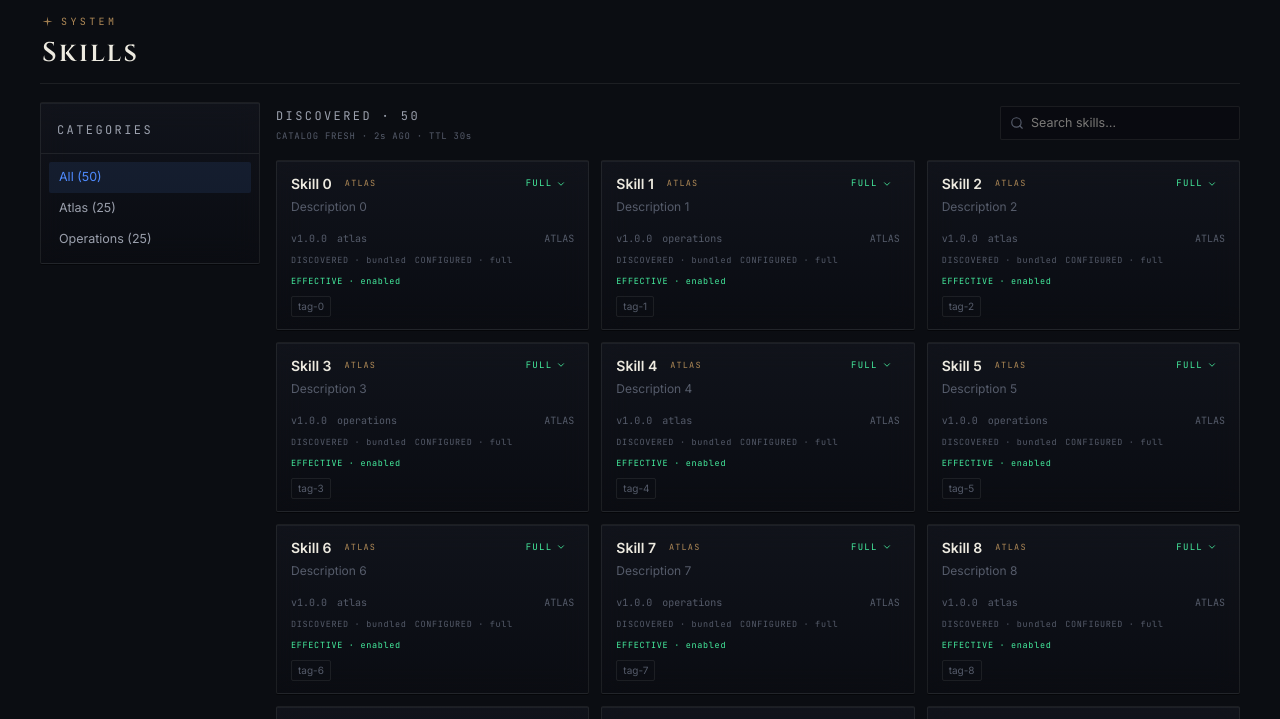
Skills control plane › never renders a success receipt when the mutation fails
expect the text "Skill 0" is shown: met, box [291,173,332,194]
Click the button titled "Loading tier: FULL" in the row of "Skill 0" at (546, 184), box [518,173,574,194]
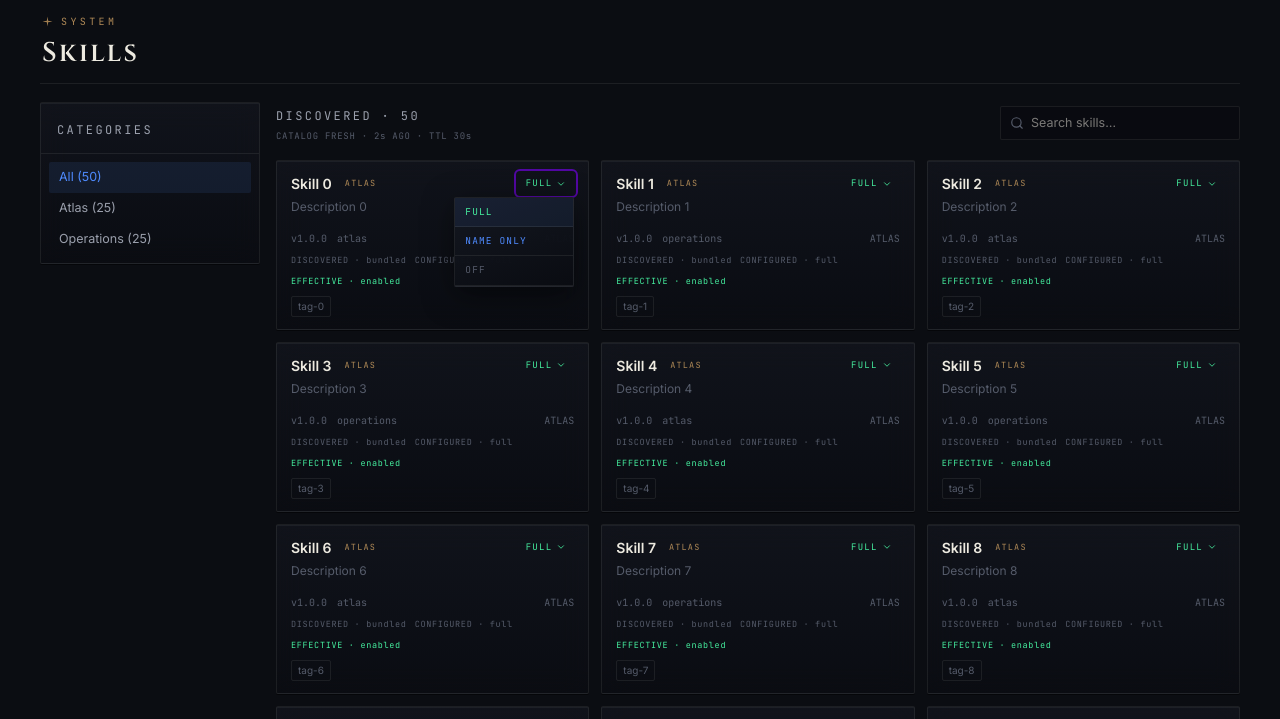
Click the button "NAME ONLY" at (514, 242), box [455,227,573,256]
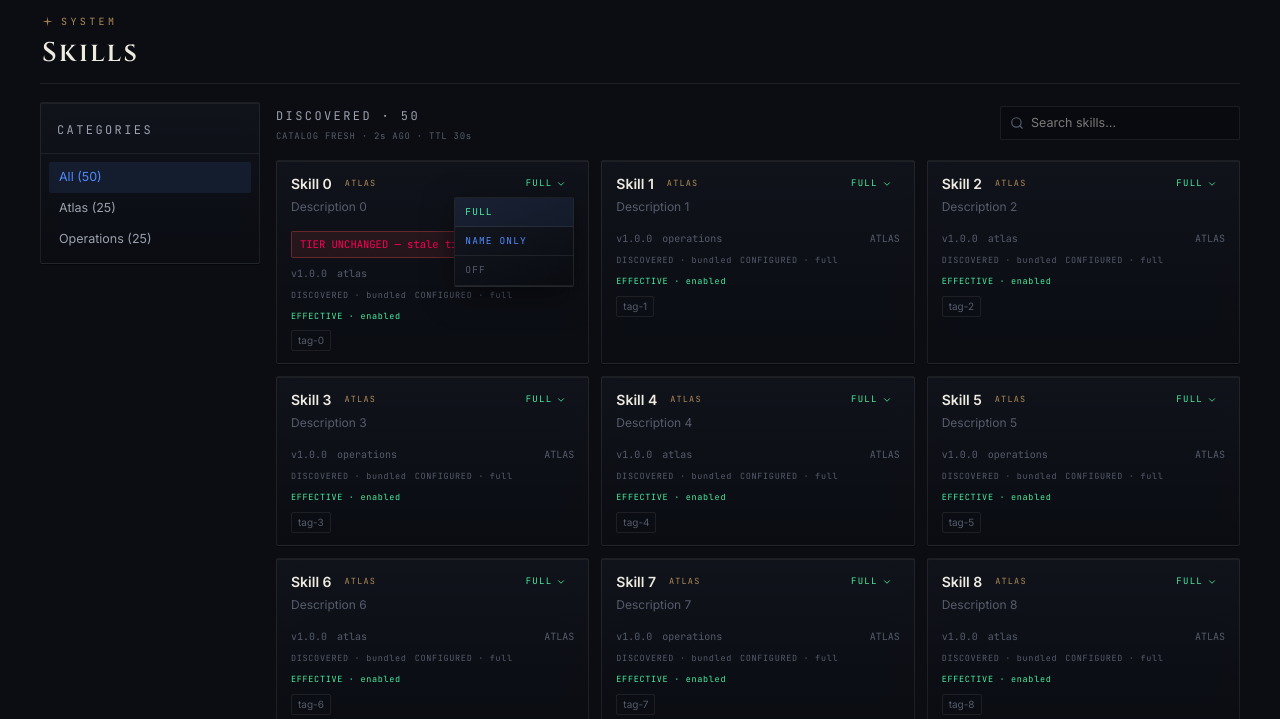
expect the message shows "TIER UNCHANGED": met, box [300,237,407,251]
